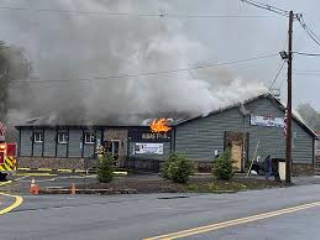fire: (142, 117, 179, 142)
smoke: (80, 16, 259, 116)
